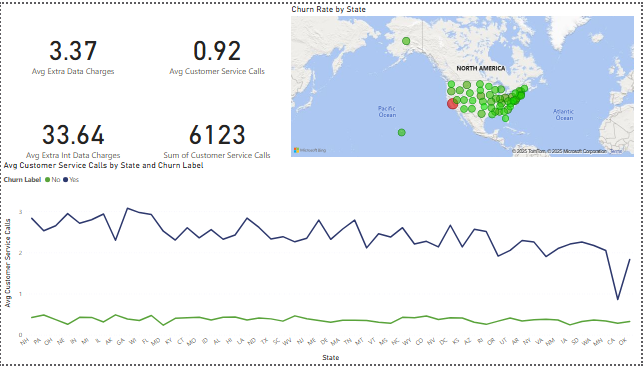

The dashboard page shown, as its layout file describes it:
{"tool":"powerbi","page":{"name":"Insights","canvas":[1280,720],"ordinal":9},"visuals":[{"type":"card","fields":{"Values":["_Measures.Avg Extra Data Charges"]},"box":[0,0,288,192],"z":0},{"type":"card","fields":{"Values":["_Measures.Avg Extra Int Data Charges"]},"box":[0,192,288,144],"z":1},{"type":"card","fields":{"Values":["_Measures.Avg Customer Service Calls"]},"box":[288,0,288,192],"z":2},{"type":"card","fields":{"Values":["Sum(Databel - Data.Customer Service Calls)"]},"box":[288,192,288,144],"z":3},{"type":"map","fields":{"Category":["Databel - Data.State"],"Size":["_Measures.Churn Rate"]},"box":[576,0,696,312],"z":4},{"type":"lineChart","fields":{"Category":["Databel - Data.State"],"Y":["_Measures.Avg Customer Service Calls"],"Series":["Databel - Data.Churn Label"]},"box":[0,312,1272,408],"z":5}]}

Visuals, with their boxes in screenshot pixels (x1, y1, x2, y2), scaled from the page's 1280x720 canvas onto the 643x367 screenshot:
card - _Measures.Avg Extra Data Charges: [0, 0, 145, 98]
card - _Measures.Avg Extra Int Data Charges: [0, 98, 145, 171]
card - _Measures.Avg Customer Service Calls: [145, 0, 289, 98]
card - Sum(Databel - Data.Customer Service Calls): [145, 98, 289, 171]
map - Databel - Data.State x _Measures.Churn Rate: [289, 0, 639, 159]
lineChart - Databel - Data.State x _Measures.Avg Customer Service Calls: [0, 159, 639, 366]
